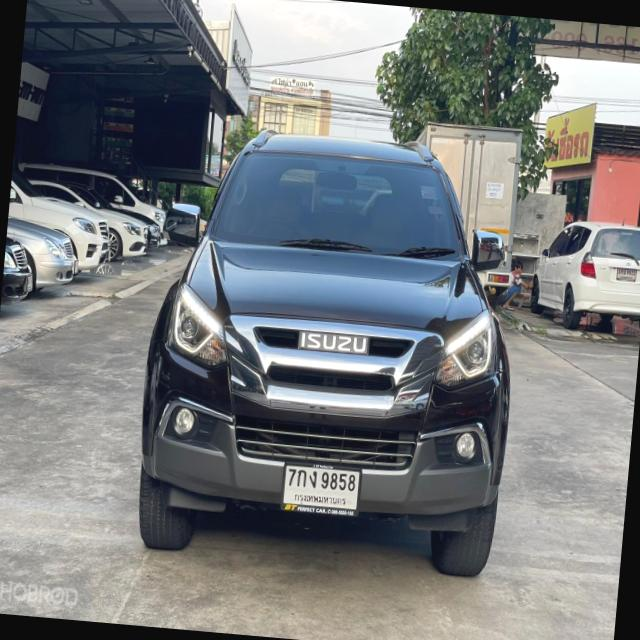license_plate: (278, 456, 362, 522), (613, 264, 640, 285)
